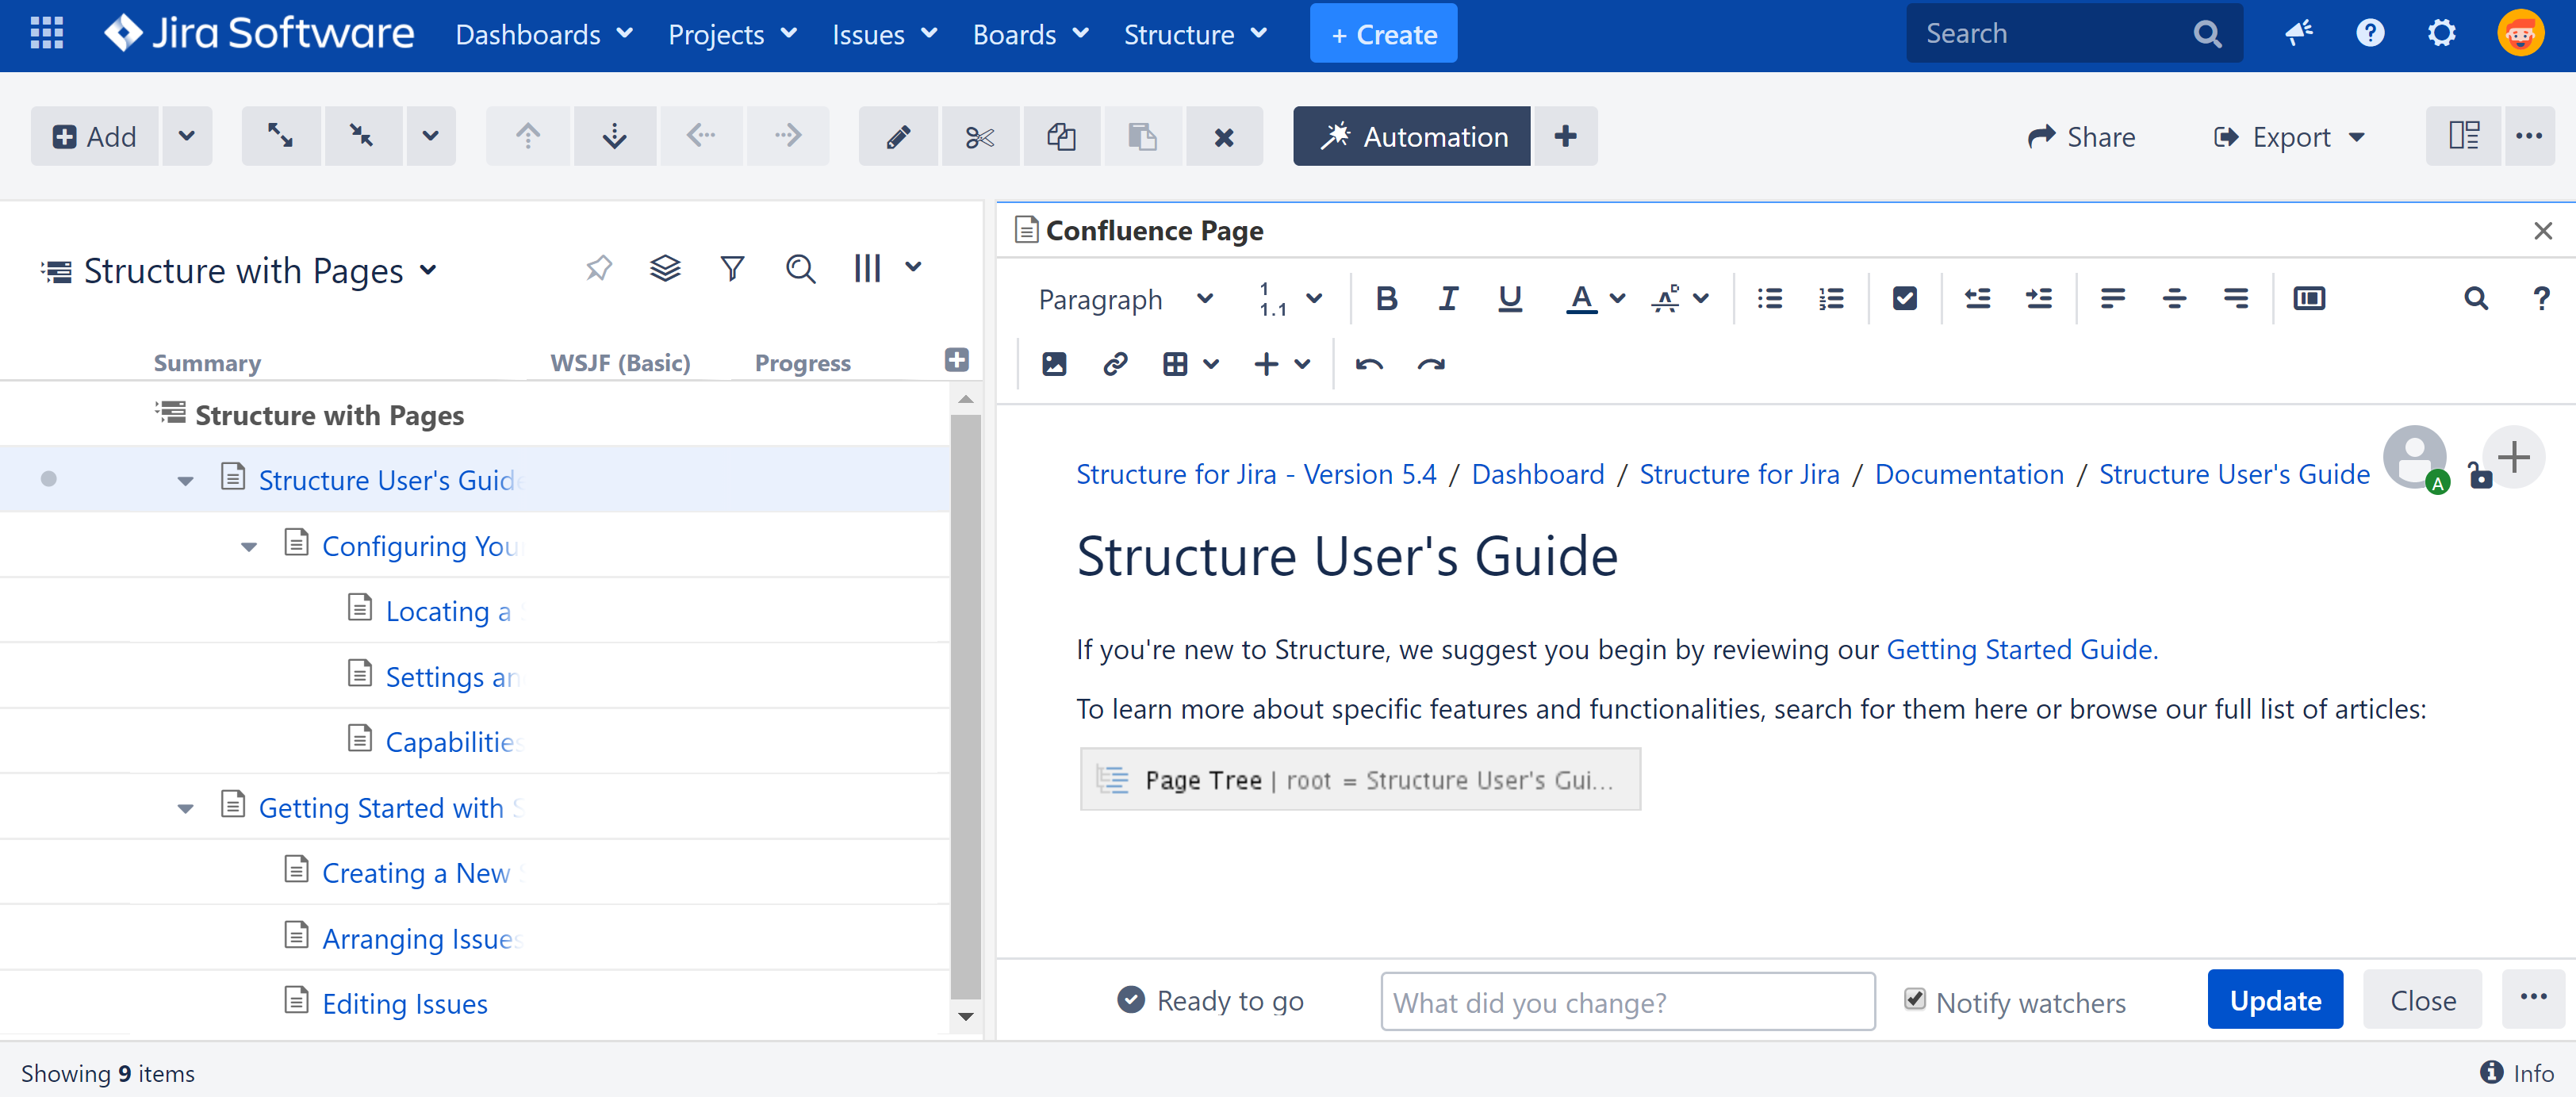button_create: (1306, 2, 1487, 72)
search_box: (1904, 3, 2251, 72)
